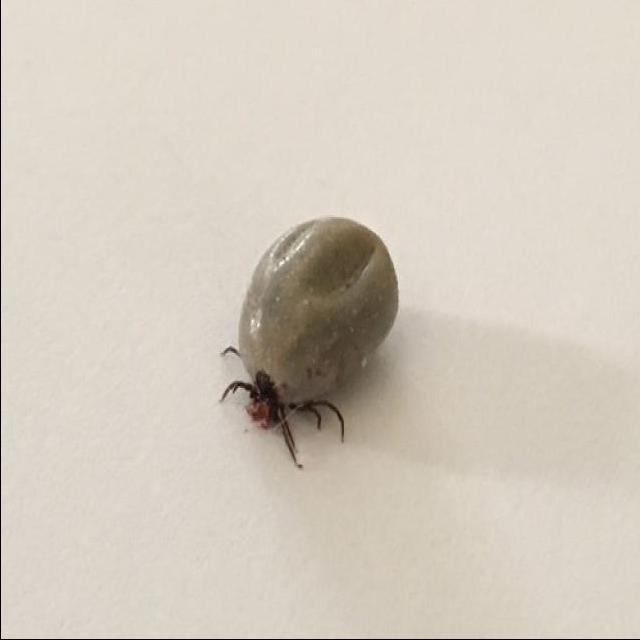Ixodes Ricinus-F-Fed: (219, 218, 401, 471)
